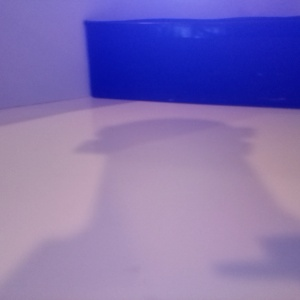alive_ball: (39, 27, 125, 116)
dead_ball: (291, 34, 300, 88)
